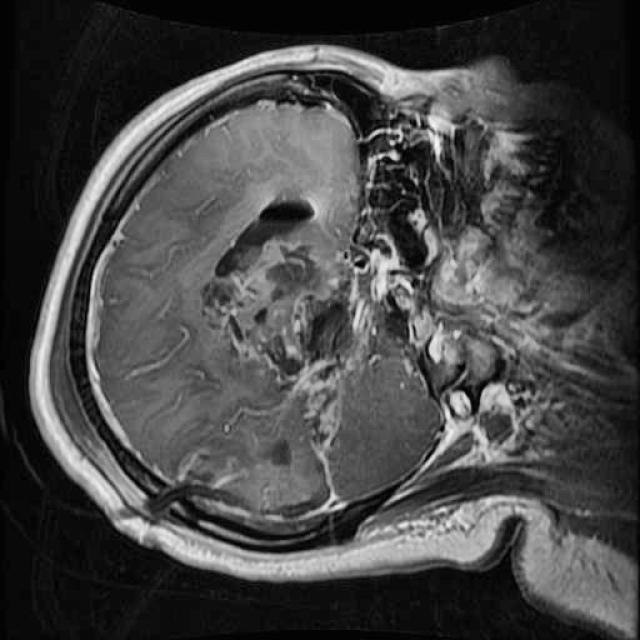Tumor: (196, 217, 404, 458)
